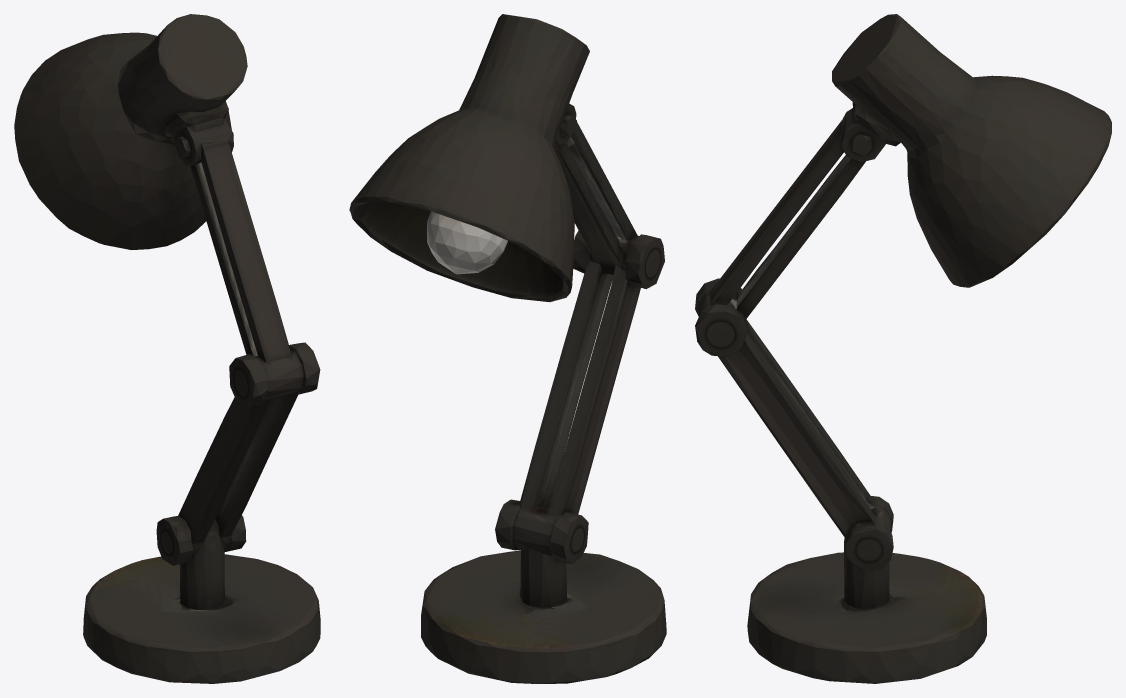
Rendered from tripo_convert_4649812a-d4c8-4827-a0f0-7eb7ecb8e0ac.obj.
3 views of the same model, side by side, from view 1: azimuth 30°, elevation 25°; view 2: azimuth 150°, elevation 25°; view 3: azimuth 270°, elevation 25° (orthographic). The views are drawn at different scales.
Parts seen in each view (by area): view 1: tripo_node_4649812a-d4c8-4827-a0f0-7eb7ecb8e0ac; view 2: tripo_node_4649812a-d4c8-4827-a0f0-7eb7ecb8e0ac; view 3: tripo_node_4649812a-d4c8-4827-a0f0-7eb7ecb8e0ac.
Boxes of the visible parts, x1=… form: tripo_node_4649812a-d4c8-4827-a0f0-7eb7ecb8e0ac: x1=14, y1=14, x2=320, y2=683; tripo_node_4649812a-d4c8-4827-a0f0-7eb7ecb8e0ac: x1=349, y1=14, x2=666, y2=683; tripo_node_4649812a-d4c8-4827-a0f0-7eb7ecb8e0ac: x1=695, y1=14, x2=1111, y2=683.
Size of the model in its own units: 0.3547 by 1 by 0.6148.
Materials: 1 (1 with a texture image).
